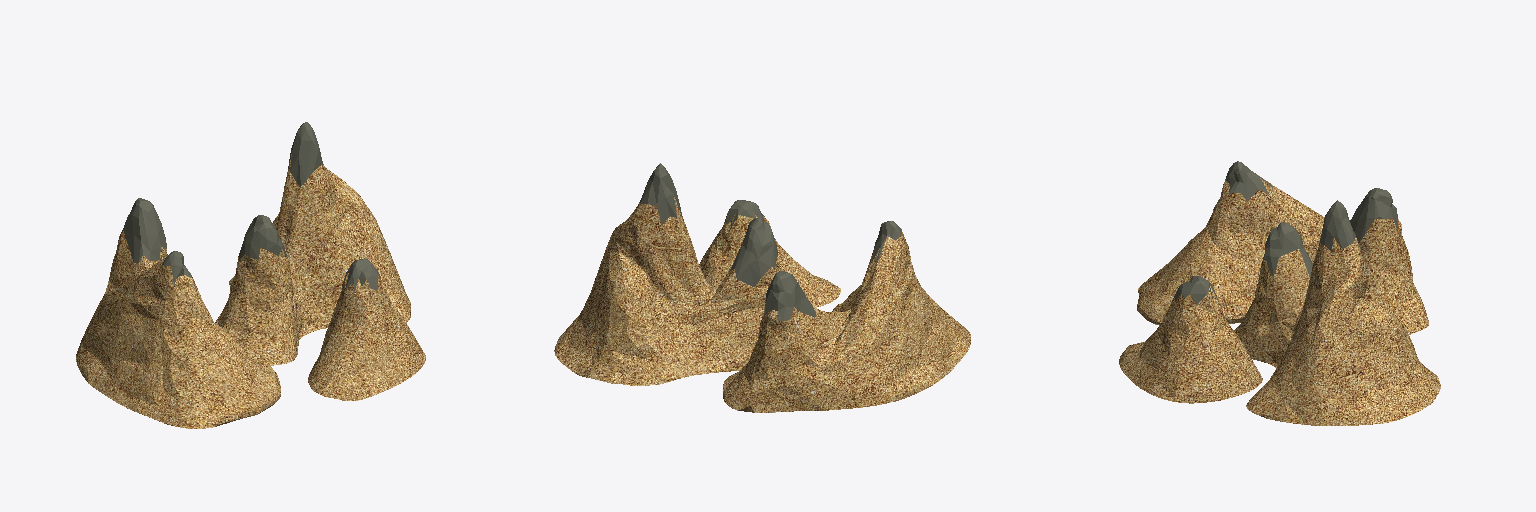
3 views of the same model, side by side, from view 1: azimuth 30°, elevation 25°; view 2: azimuth 150°, elevation 25°; view 3: azimuth 270°, elevation 25° (orthographic).
Parts seen in each view (by area): view 1: Mountain_Group_1_Cube.039; view 2: Mountain_Group_1_Cube.039; view 3: Mountain_Group_1_Cube.039.
Boxes of the visible parts, box(x1,y1,x2,y2) form: Mountain_Group_1_Cube.039: box(76, 122, 425, 428); Mountain_Group_1_Cube.039: box(554, 163, 970, 412); Mountain_Group_1_Cube.039: box(1119, 161, 1440, 425).
Bounding box in the file's own units: 4.59 × 2.49 × 3.84.
Materials: 3 (1 with a texture image).